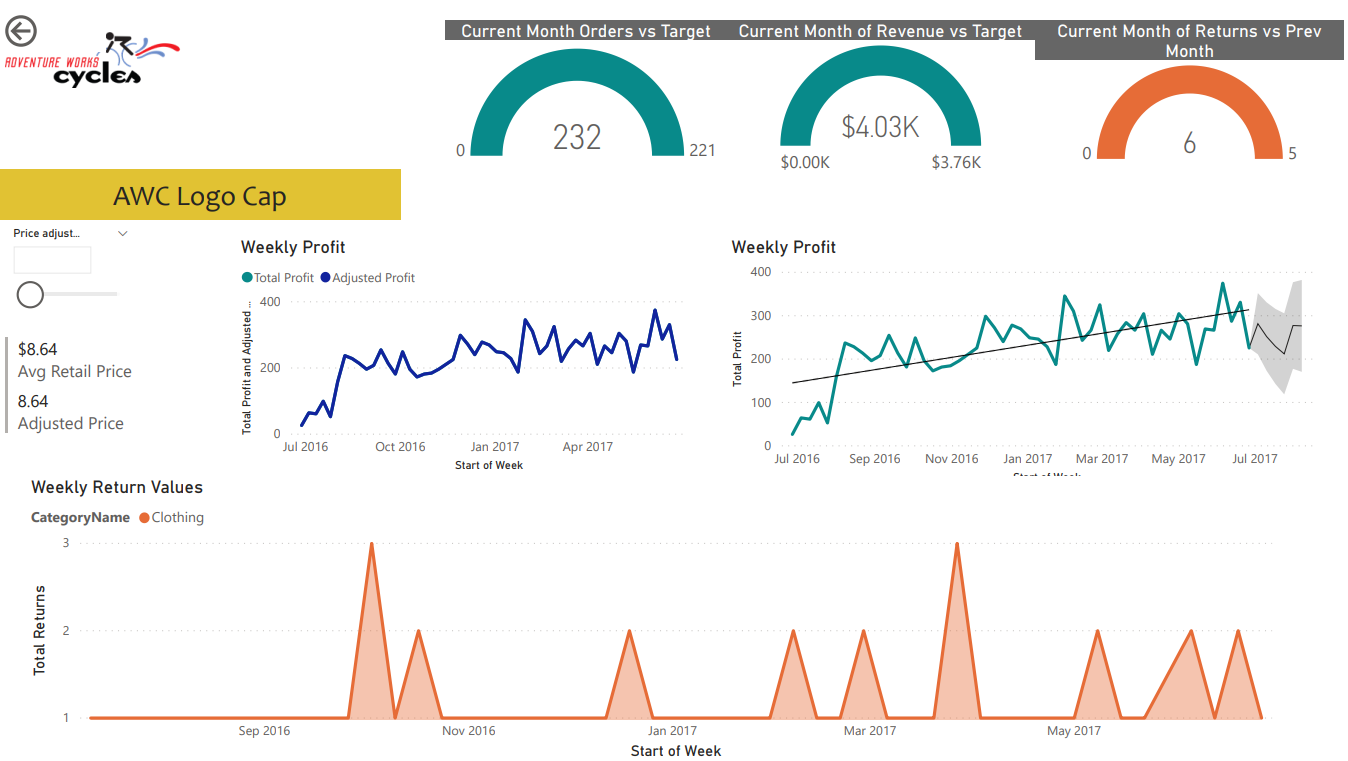

The page's visual inventory and layout, read from the dashboard file:
{"tool":"powerbi","page":{"name":"Product Detail","canvas":[1280,720],"ordinal":1},"visuals":[{"type":"lineChart","title":"Weekly Profit","fields":{"Y":["AW_Sales.Total Profit"],"Category":["AW_Calendar_Lookup.Start of Week"]},"box":[692.1,215.7,574.8,240.4],"z":0},{"type":"image","box":[0,0,178.1,94.1],"z":1000},{"type":"stackedAreaChart","title":"Weekly Return Values","fields":{"Category":["AW_Calendar_Lookup.Start of Week"],"Y":["AW_Returns.Total Returns"],"Series":["AW_Product_Categories_Lookup.CategoryName"]},"box":[24.6,444.5,1207.6,275.1],"z":2000},{"type":"gauge","title":"Current Month Orders vs Target","fields":{"Y":["AW_Sales.Total Orders"],"MaxValue":["AW_Sales.Order Target"]},"box":[424.3,10.1,267.9,141.9],"z":3000},{"type":"gauge","title":"Current Month of Revenue vs Target","fields":{"Y":["AW_Sales.Total Revenue"],"MaxValue":["AW_Sales.Revenue Target"]},"box":[692.1,10.1,293.9,156.4],"z":4000},{"type":"gauge","title":"Current Month of Returns vs Prev Month","fields":{"Y":["AW_Returns.Total Returns"],"MaxValue":["AW_Returns.Prev Month Returns"]},"box":[986.1,10.1,293.9,141.9],"z":5000},{"type":"card","fields":{"Values":["Min(AW_Product_Lookup.ProductName)"]},"box":[0,152,380.8,47.8],"z":6000},{"type":"actionButton","box":[0,0,100,40],"z":7000},{"type":"slicer","fields":{"Values":["Price adjustment(%).Price adjustment(%)"]},"box":[0,201.3,134.7,105.7],"z":8000},{"type":"multiRowCard","fields":{"Values":["AW_Product_Lookup.Avg Retail Price","AW_Product_Lookup.Adjusted Price"]},"box":[0,307,133.2,137.6],"z":9000},{"type":"lineChart","title":"Weekly Profit","fields":{"Y":["AW_Sales.Total Profit","AW_Sales.Adjusted Profit"],"Category":["AW_Calendar_Lookup.Start of Week"]},"box":[224.4,215.7,450.3,228.8],"z":10000}]}

Visuals, with their boxes in screenshot pixels (x1, y1, x2, y2), scaled from the page's 1280x720 canvas onto the 1348x761 screenshot:
"Weekly Profit" lineChart: 729,228,1334,482
image: 0,0,188,99
"Weekly Return Values" stackedAreaChart: 26,470,1298,760
"Current Month Orders vs Target" gauge: 447,11,729,161
"Current Month of Revenue vs Target" gauge: 729,11,1038,176
"Current Month of Returns vs Prev Month" gauge: 1038,11,1347,161
card - Min(AW_Product_Lookup.ProductName): 0,161,401,211
actionButton: 0,0,105,42
slicer - Price adjustment(%).Price adjustment(%): 0,213,142,324
multiRowCard - AW_Product_Lookup.Avg Retail Price x AW_Product_Lookup.Adjusted Price: 0,324,140,470
"Weekly Profit" lineChart: 236,228,711,470
